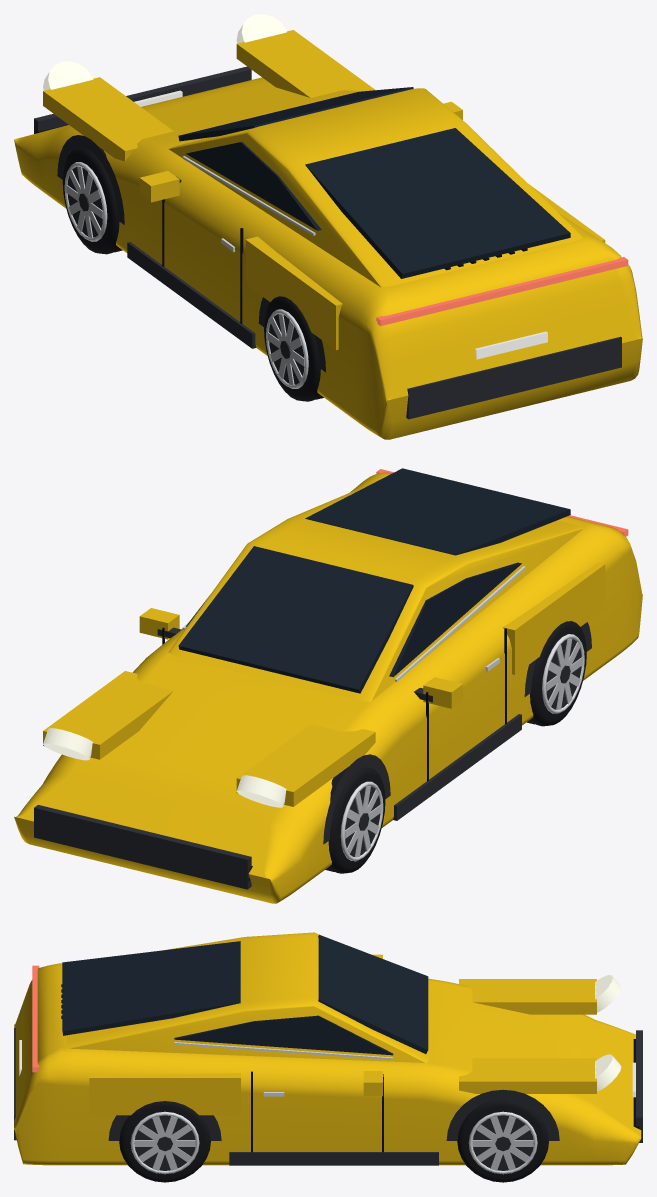
File: supercar.glb
3 views of the same model, one above another, from view 1: azimuth 30°, elevation 25°; view 2: azimuth 150°, elevation 25°; view 3: azimuth 270°, elevation 25° (orthographic). The views are drawn at different scales.
Bounding box in the file's own units: 2.19 × 1.3 × 4.56.
